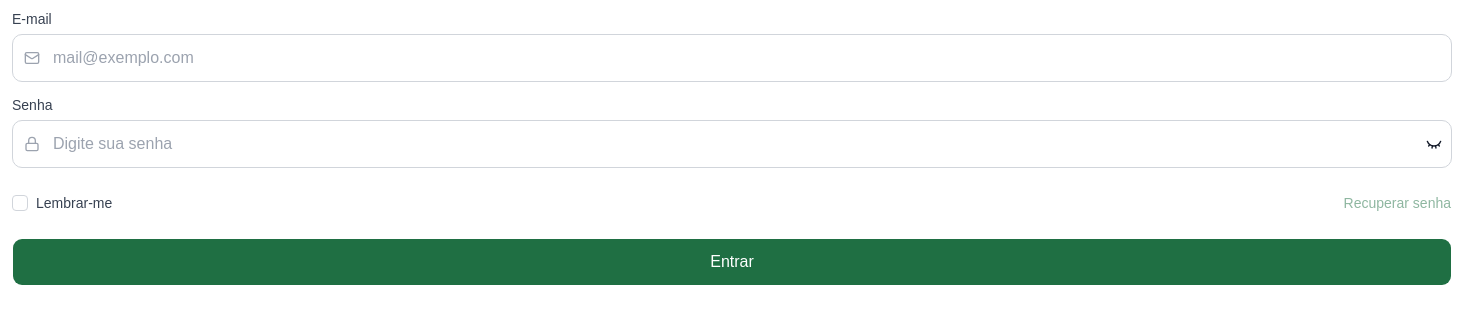
LoginForm › shows "A senha é obrigatória" for an empty password
Type "ana@example.com" into the field labelled "E-mail". click: (732, 58)
box: x1=12 y1=34 x2=1452 y2=82
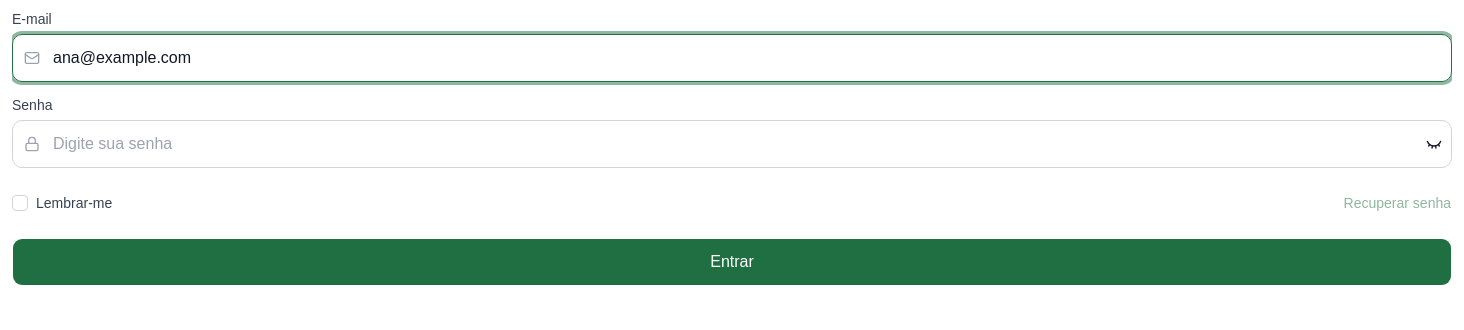
Click the button "Entrar". click: click(732, 262)
box: x1=12 y1=238 x2=1452 y2=286
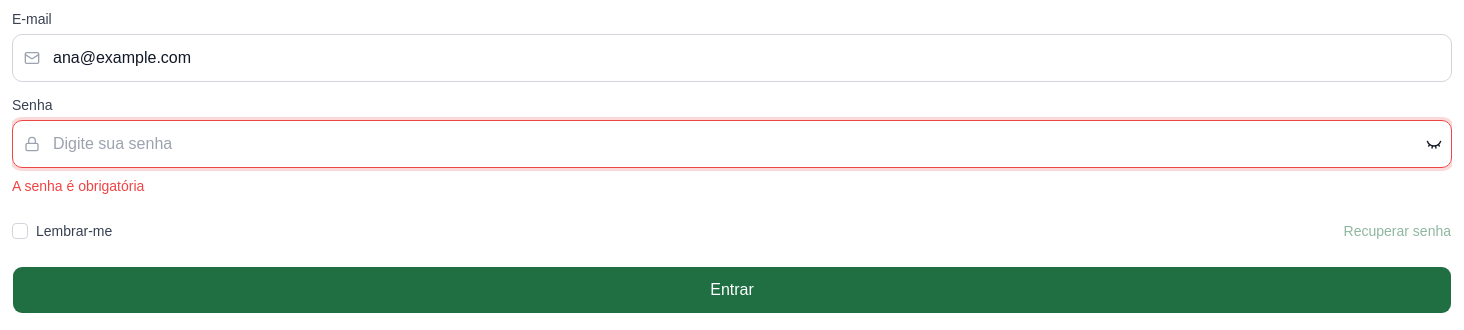
Expected: the text "A senha é obrigatória" is shown, x1=12 y1=178 x2=144 y2=194
